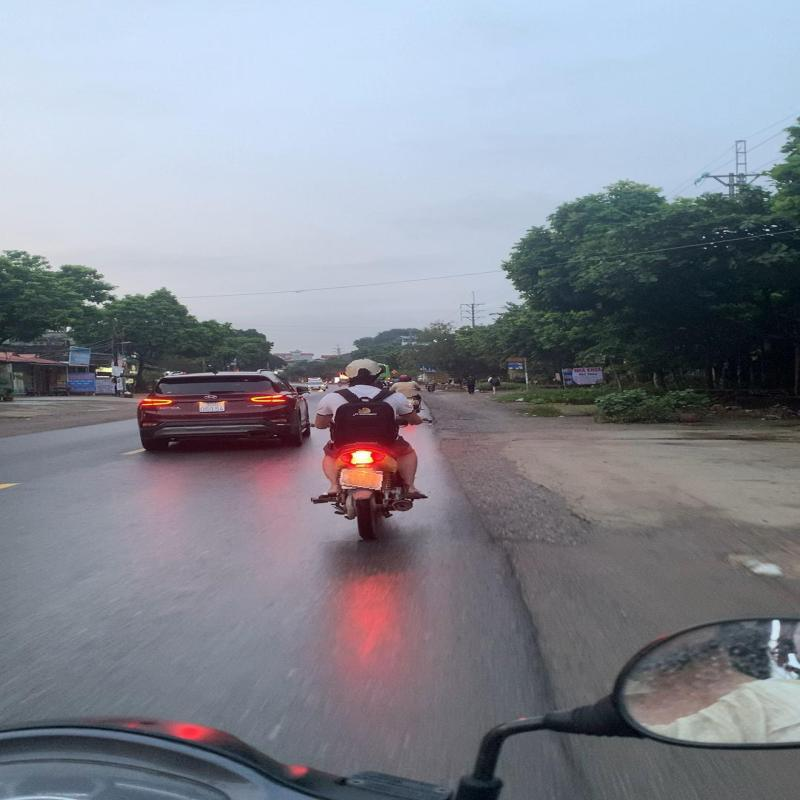helmet: (342, 358, 386, 380)
licenseplate: (334, 467, 386, 491)
motorcyclist: (308, 357, 430, 541)
